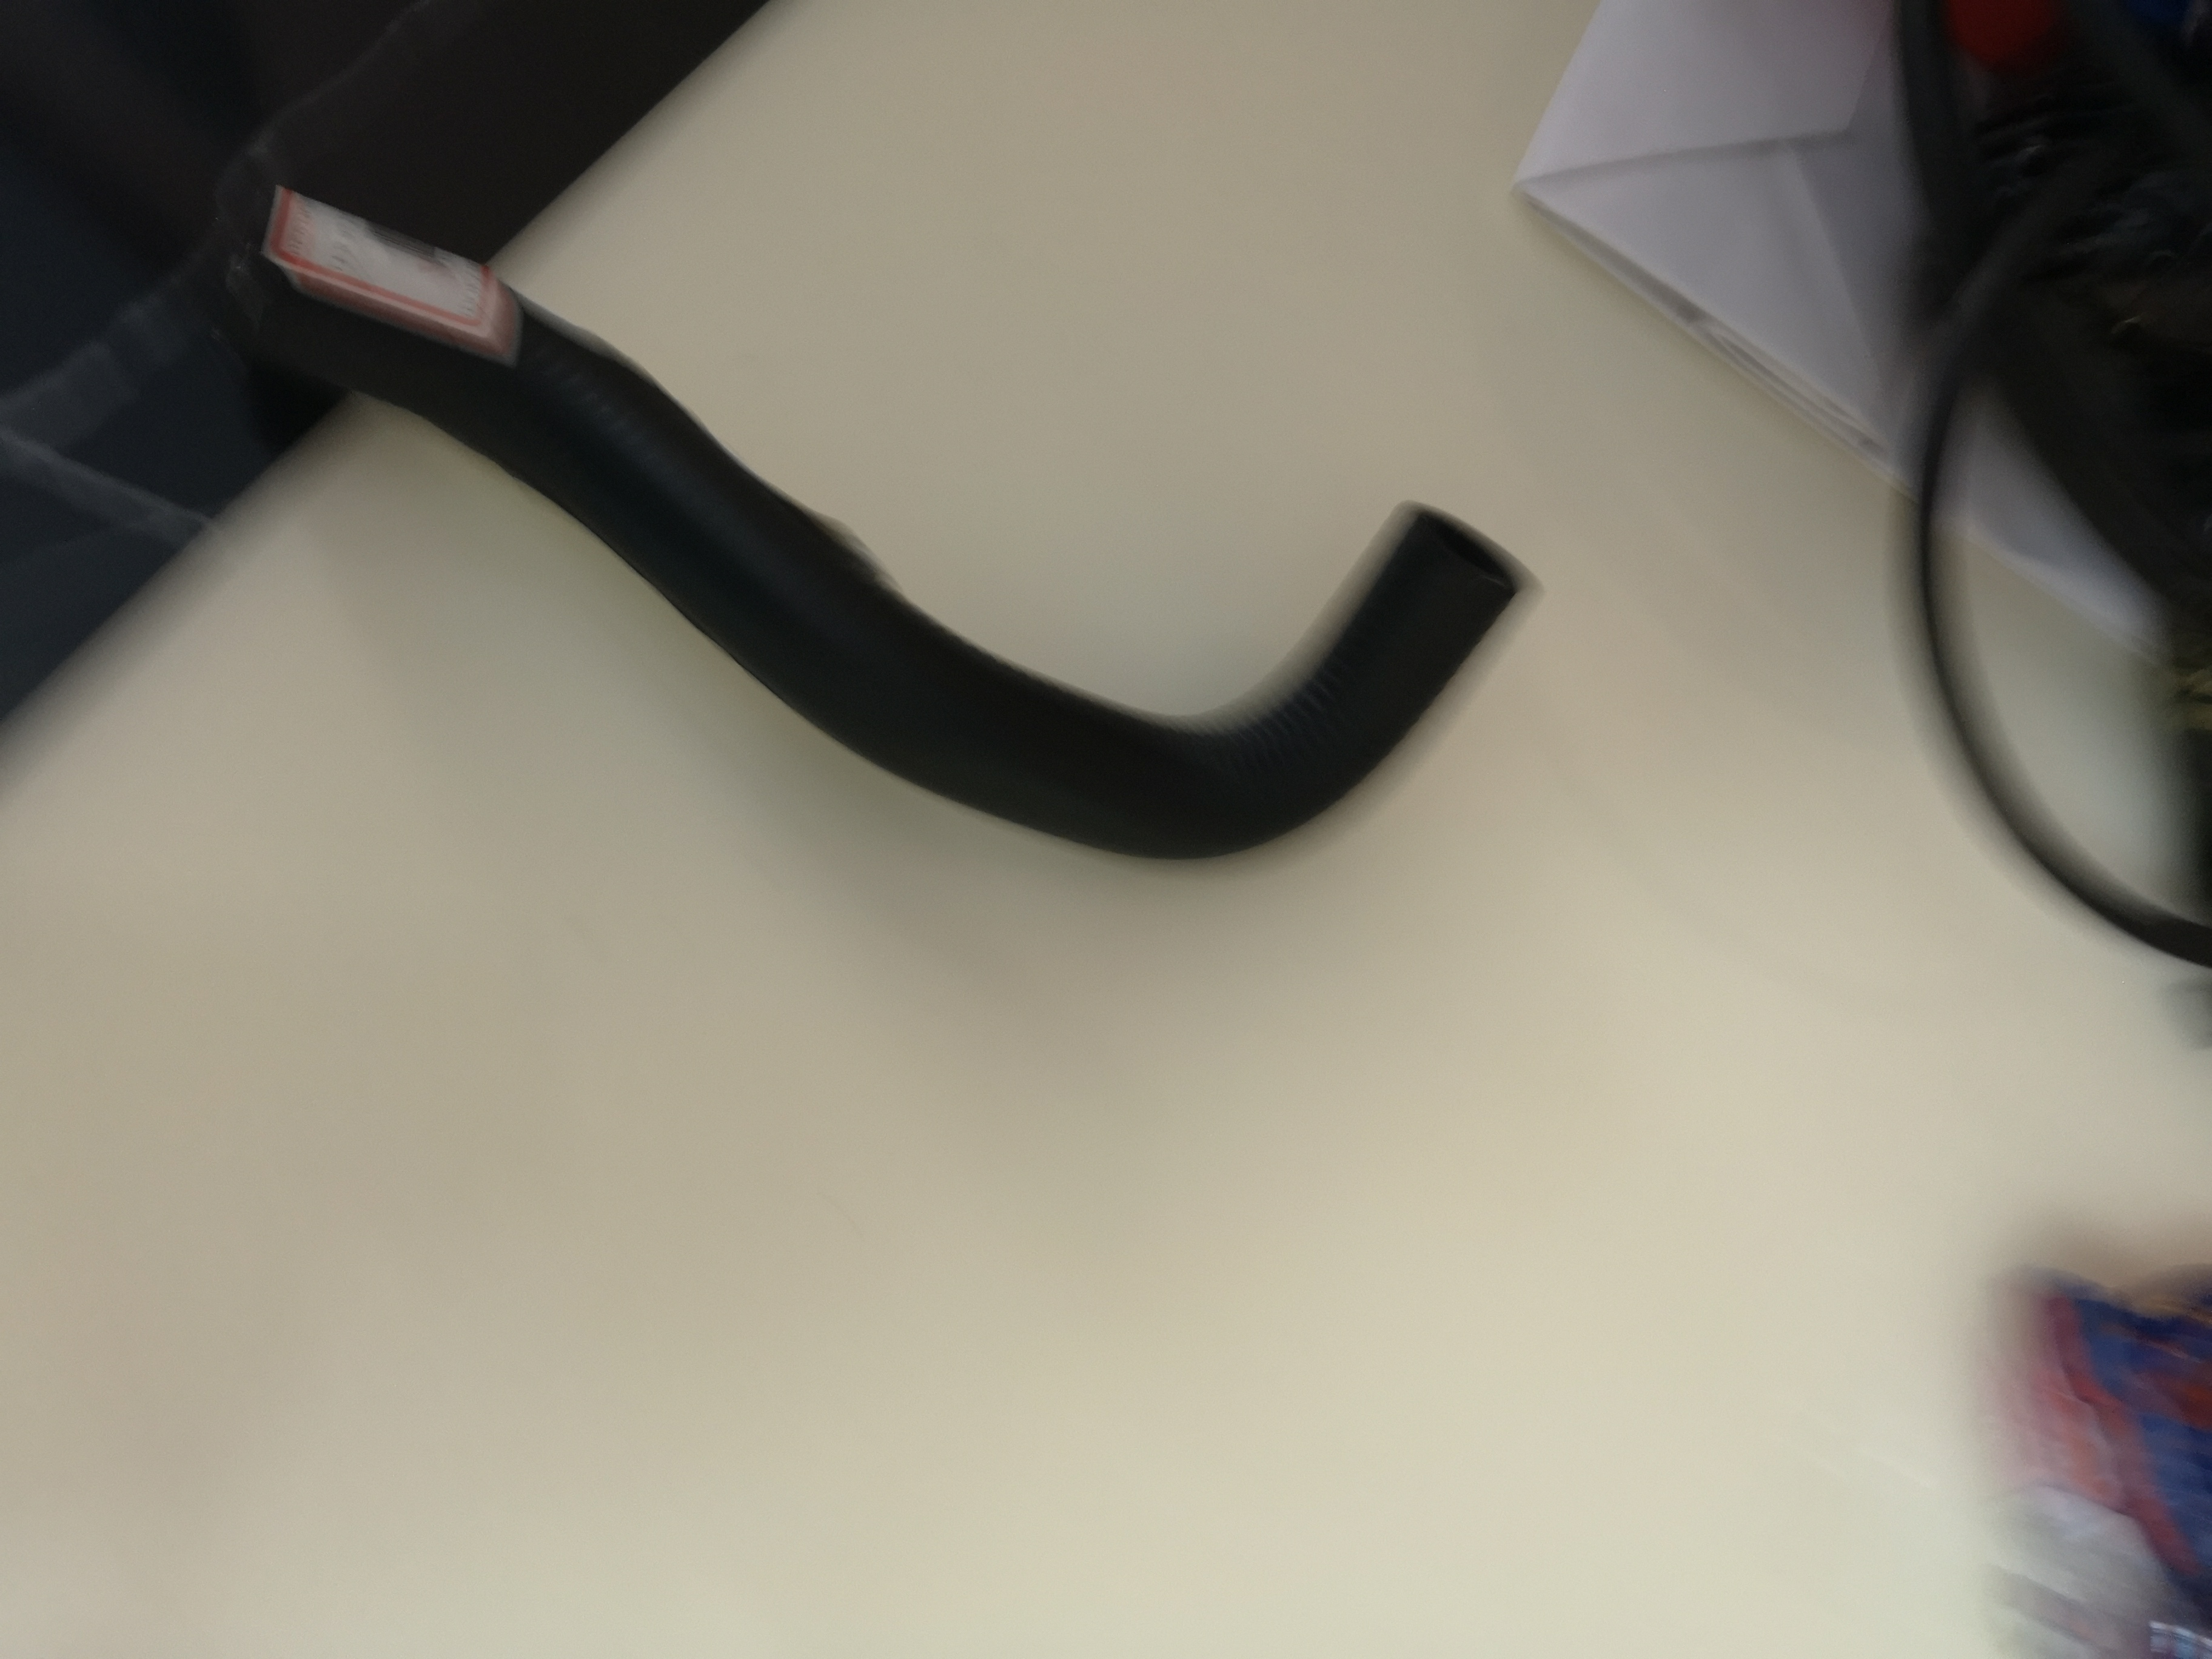ท่อยางน้ำมันเลี้ยงเทอร์โบ: (207, 132, 1534, 922)
